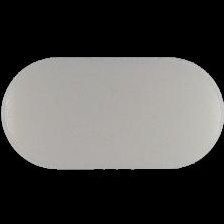55700-320: (0, 0, 224, 224)
